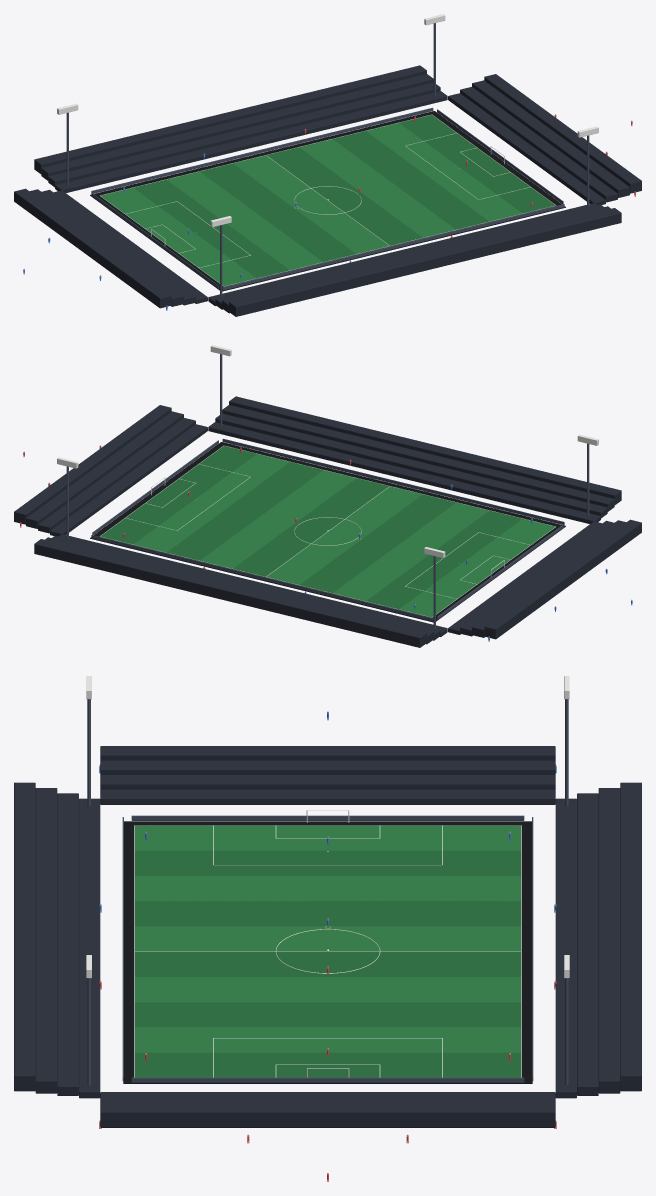
File: footy-match-stadium-v1.glb
3 views of the same model, one above another, from view 1: azimuth 30°, elevation 25°; view 2: azimuth 150°, elevation 25°; view 3: azimuth 270°, elevation 25° (orthographic). The views are drawn at different scales.
Parts seen in each view (by area): view 1: StandLong_-40_3, StandLong_40_0, StandLong_40_3, StandLong_40_2, StandLong_40_1, Pitch_Stripe_07, Pitch_Stripe_08, Pitch_Stripe_03, Pitch_Stripe_06, Pitch_Stripe_04, Pitch_Stripe_05, Pitch_Stripe_09 (+19 smaller); view 2: StandLong_40_3, StandLong_-40_0, StandLong_-40_3, StandLong_-40_2, StandLong_-40_1, Pitch_Stripe_08, Pitch_Stripe_07, Pitch_Stripe_03, Pitch_Stripe_06, Pitch_Stripe_04, Pitch_Stripe_05, Pitch_Stripe_09 (+19 smaller); view 3: StandEnd_61_3, Pitch_Stripe_06, Pitch_Stripe_07, Pitch_Stripe_01, Pitch_Stripe_04, Pitch_Stripe_08, Pitch_Stripe_05, Pitch_Stripe_03, Pitch_Stripe_09, Pitch_Stripe_00, Pitch_Stripe_02, Pitch_Base (+17 smaller).
Boxes of the visible parts, left/top/right/bottom form: StandLong_-40_3: left=229, top=208, right=621, bottom=316; StandLong_40_0: left=55, top=91, right=447, bottom=192; StandLong_40_3: left=34, top=65, right=426, bottom=173; StandLong_40_2: left=41, top=74, right=433, bottom=180; StandLong_40_1: left=48, top=82, right=440, bottom=187; Pitch_Stripe_07: left=333, top=131, right=488, bottom=229; Pitch_Stripe_08: left=366, top=123, right=522, bottom=221; Pitch_Stripe_03: left=200, top=163, right=355, bottom=261; Pitch_Stripe_06: left=299, top=139, right=455, bottom=237; Pitch_Stripe_04: left=233, top=155, right=389, bottom=253; Pitch_Stripe_05: left=266, top=147, right=422, bottom=245; Pitch_Stripe_09: left=399, top=115, right=555, bottom=213; StandLong_40_3: left=34, top=539, right=426, bottom=647; StandLong_-40_0: left=208, top=422, right=600, bottom=523; StandLong_-40_3: left=229, top=396, right=621, bottom=504; StandLong_-40_2: left=222, top=405, right=614, bottom=511; StandLong_-40_1: left=215, top=413, right=607, bottom=518; Pitch_Stripe_08: left=133, top=454, right=289, bottom=552; Pitch_Stripe_07: left=167, top=462, right=322, bottom=560; Pitch_Stripe_03: left=300, top=494, right=455, bottom=592; Pitch_Stripe_06: left=200, top=470, right=356, bottom=568; Pitch_Stripe_04: left=266, top=486, right=422, bottom=584; Pitch_Stripe_05: left=233, top=478, right=389, bottom=576; Pitch_Stripe_09: left=100, top=446, right=256, bottom=544; StandEnd_61_3: left=100, top=1103, right=555, bottom=1127; Pitch_Stripe_06: left=135, top=977, right=520, bottom=1002; Pitch_Stripe_07: left=135, top=1002, right=520, bottom=1027; Pitch_Stripe_01: left=135, top=850, right=520, bottom=875; Pitch_Stripe_04: left=135, top=926, right=520, bottom=951; Pitch_Stripe_08: left=135, top=1027, right=520, bottom=1052; Pitch_Stripe_05: left=135, top=951, right=520, bottom=976; Pitch_Stripe_03: left=135, top=901, right=520, bottom=926; Pitch_Stripe_09: left=135, top=1052, right=520, bottom=1077; Pitch_Stripe_00: left=135, top=825, right=520, bottom=850; Pitch_Stripe_02: left=135, top=876, right=520, bottom=901; Pitch_Base: left=123, top=821, right=532, bottom=1083.
Size of the model in its own units: 192 by 25.36 by 110.
